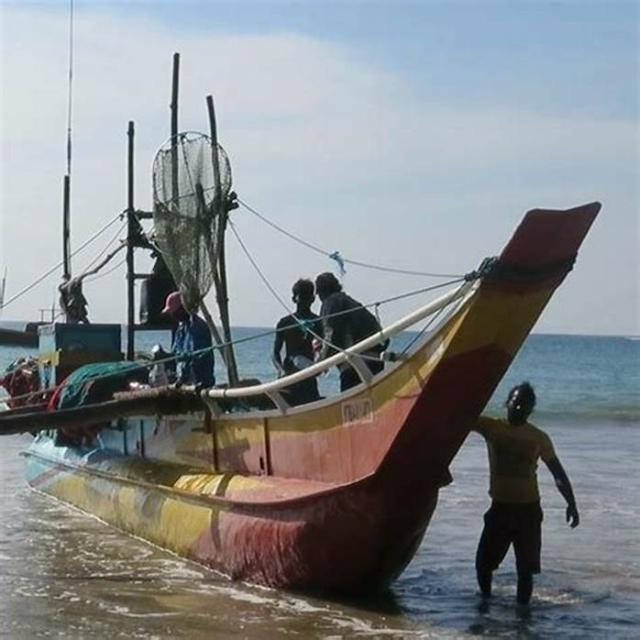Fishing Boat: (0, 131, 612, 577)
